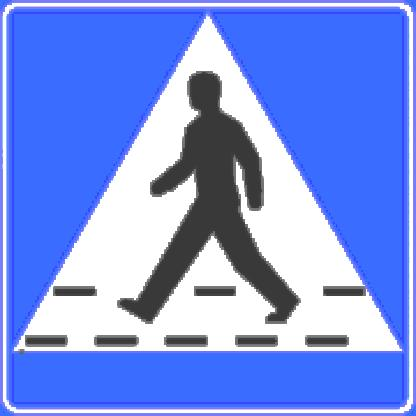Pedestrian Crossing: (18, 13, 405, 376)
